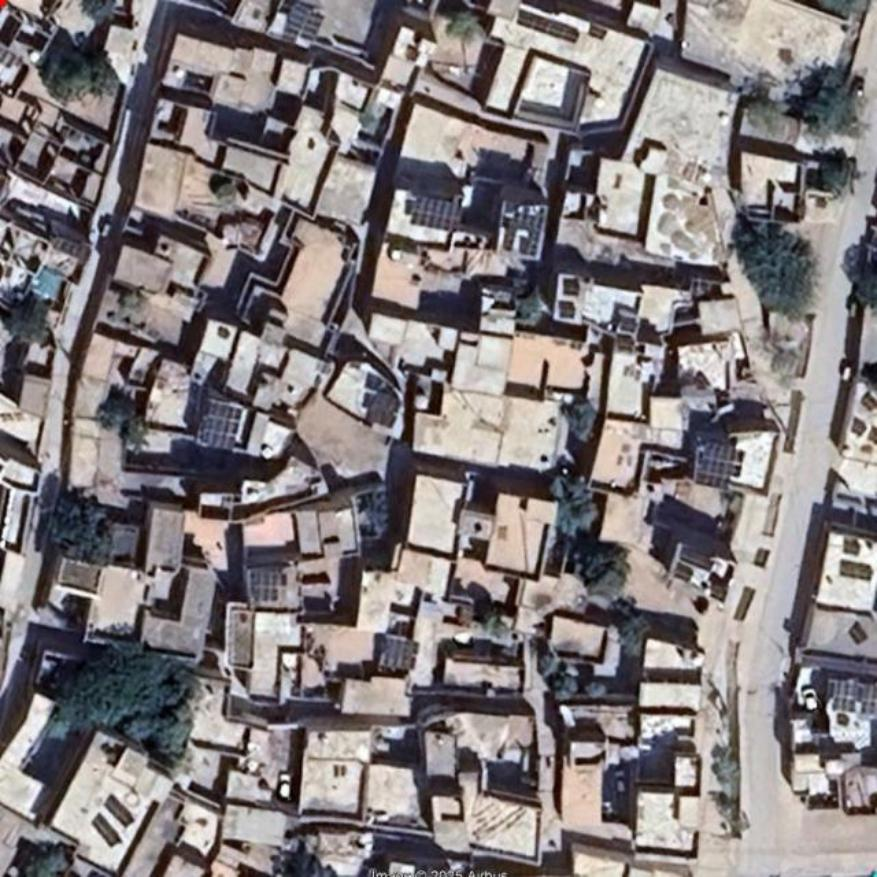Solarpanel: (515, 9, 579, 45), (199, 404, 241, 454), (695, 440, 734, 490), (413, 193, 461, 230), (285, 3, 328, 39), (380, 638, 418, 670)
